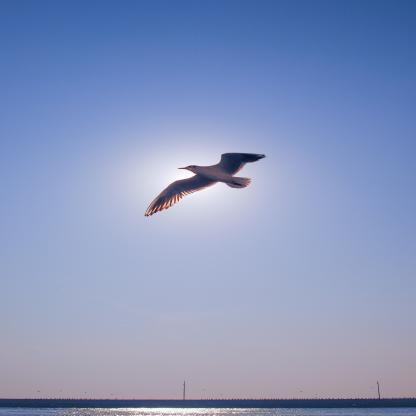bird: (144, 152, 266, 217)
